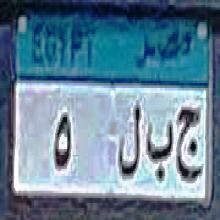5: (51, 108, 74, 176)
baa: (144, 112, 175, 189)
jeem: (175, 96, 205, 192)
laam: (118, 101, 142, 185)
